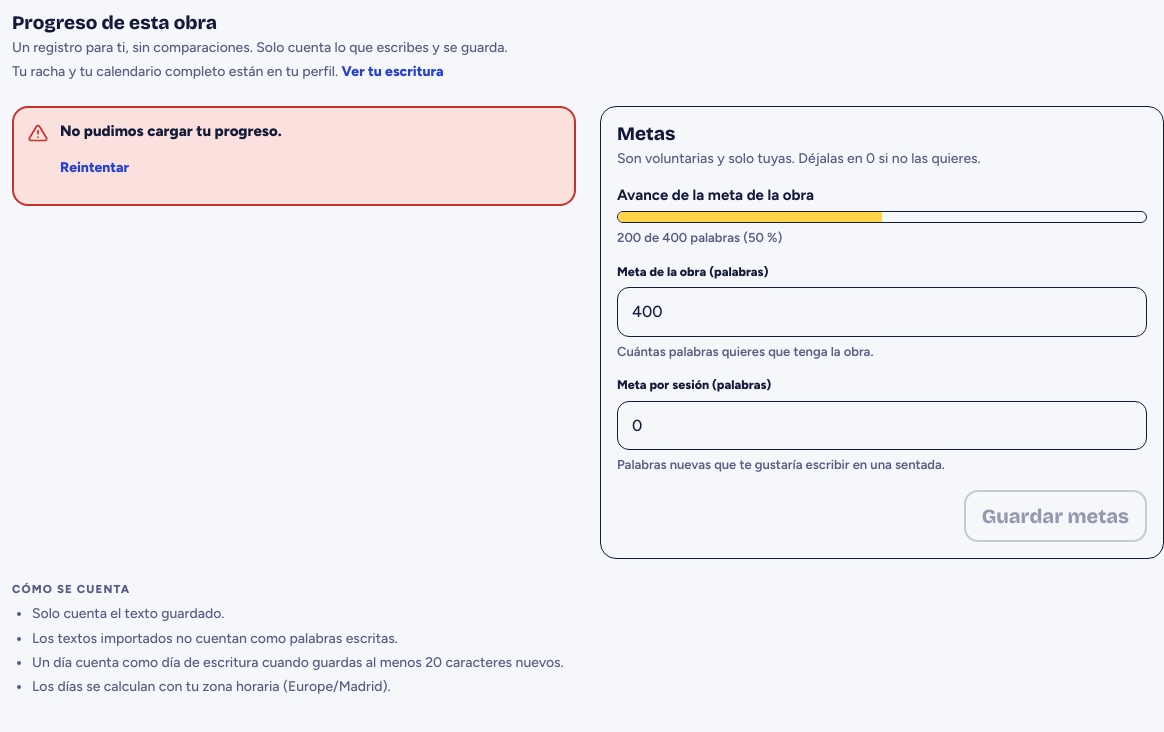
Test: Progress · numbers and calendar › shows an error with a retry
Expected: the text "No pudimos cargar tu progreso." is shown, [60,122,282,140]
What coordinates should you click on to do the following:
click the button "Reintentar"
I would click on:
 (95, 168)
Its box is [60,146,129,190].
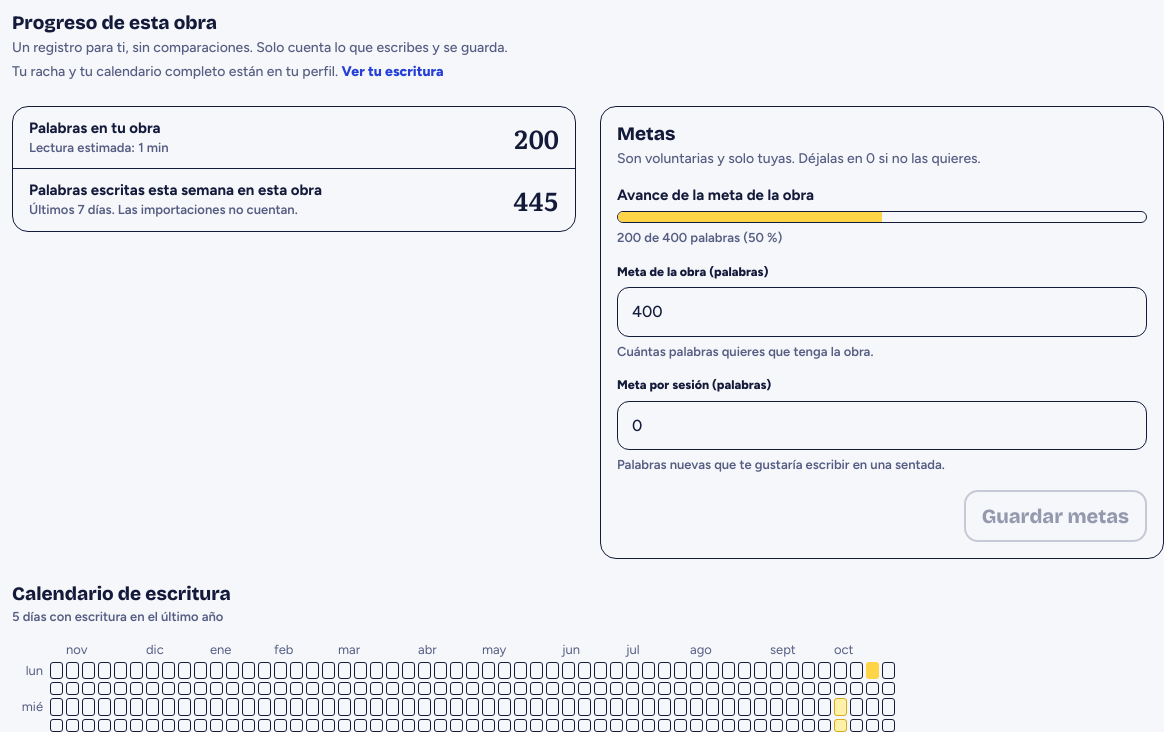
Expected: the text "Palabras en tu obra" is shown, [29,119,161,137]
